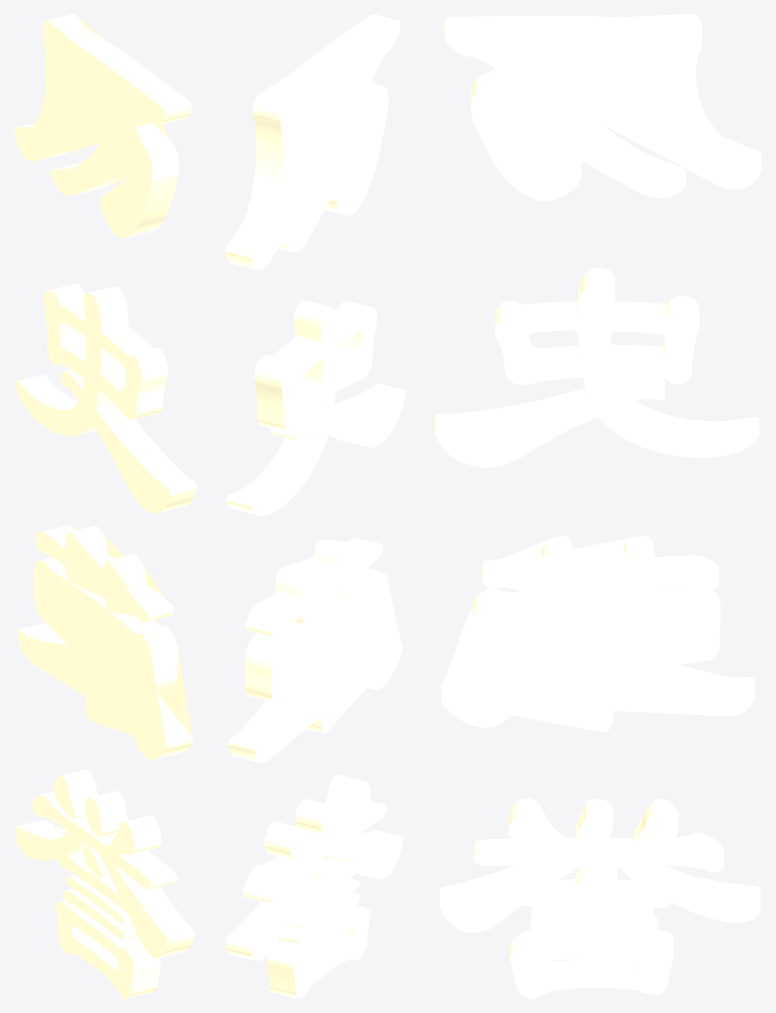
The model's file is 历史荣誉.fbx.
The picture shows the model from 3 angles, left to right: view 1: azimuth 30°, elevation 25°; view 2: azimuth 150°, elevation 25°; view 3: azimuth 270°, elevation 25°; orthographic projection. The views are drawn at different scales.
Parts seen in each view (by area): view 1: 挤压_6_2; view 2: 挤压_6_2; view 3: 挤压_6_2.
Boxes of the visible parts, <box> form: 挤压_6_2: <box>14,14,196,998</box>; 挤压_6_2: <box>225,14,405,998</box>; 挤压_6_2: <box>434,14,761,998</box>.
Size of the model in its own units: 1.97 by 64.71 by 19.76.
